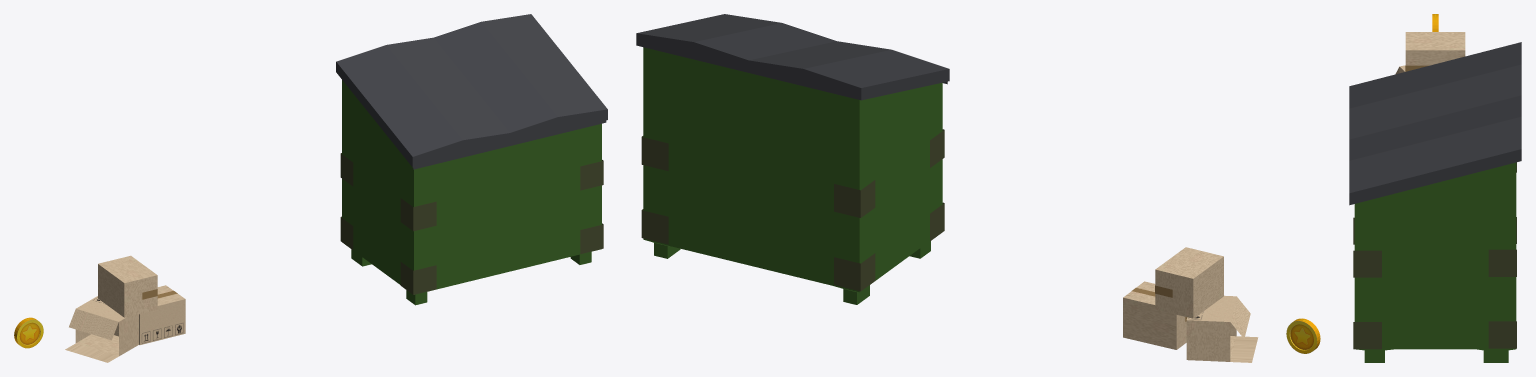
The model's file is asset.fbx.
3 views of the same model, side by side, from view 1: azimuth 30°, elevation 25°; view 2: azimuth 150°, elevation 25°; view 3: azimuth 270°, elevation 25° (orthographic). The views are drawn at different scales.
Visible parts, largest first — view 1: Cube.003, Cube.002, Cylinder; view 2: Cube.003, Cube.002, Cylinder; view 3: Cube.003, Cube.002.
Part boxes in pixels (bbox=[...]): Cube.003: bbox=[336, 14, 607, 305]; Cube.002: bbox=[65, 255, 185, 362]; Cylinder: bbox=[14, 317, 43, 348]; Cube.003: bbox=[636, 14, 949, 304]; Cube.002: bbox=[1123, 247, 1258, 362]; Cylinder: bbox=[1286, 318, 1320, 353]; Cube.003: bbox=[1349, 42, 1521, 362]; Cube.002: bbox=[1395, 32, 1465, 74].
Bounding box in the file's own units: 3034 × 1043 × 726.
